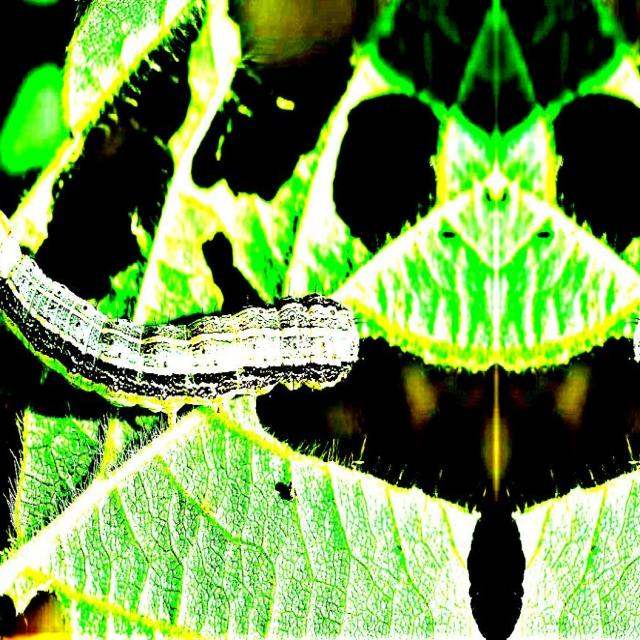Armyworm: (1, 209, 372, 455)
Armyworm_damage: (441, 494, 549, 640)
